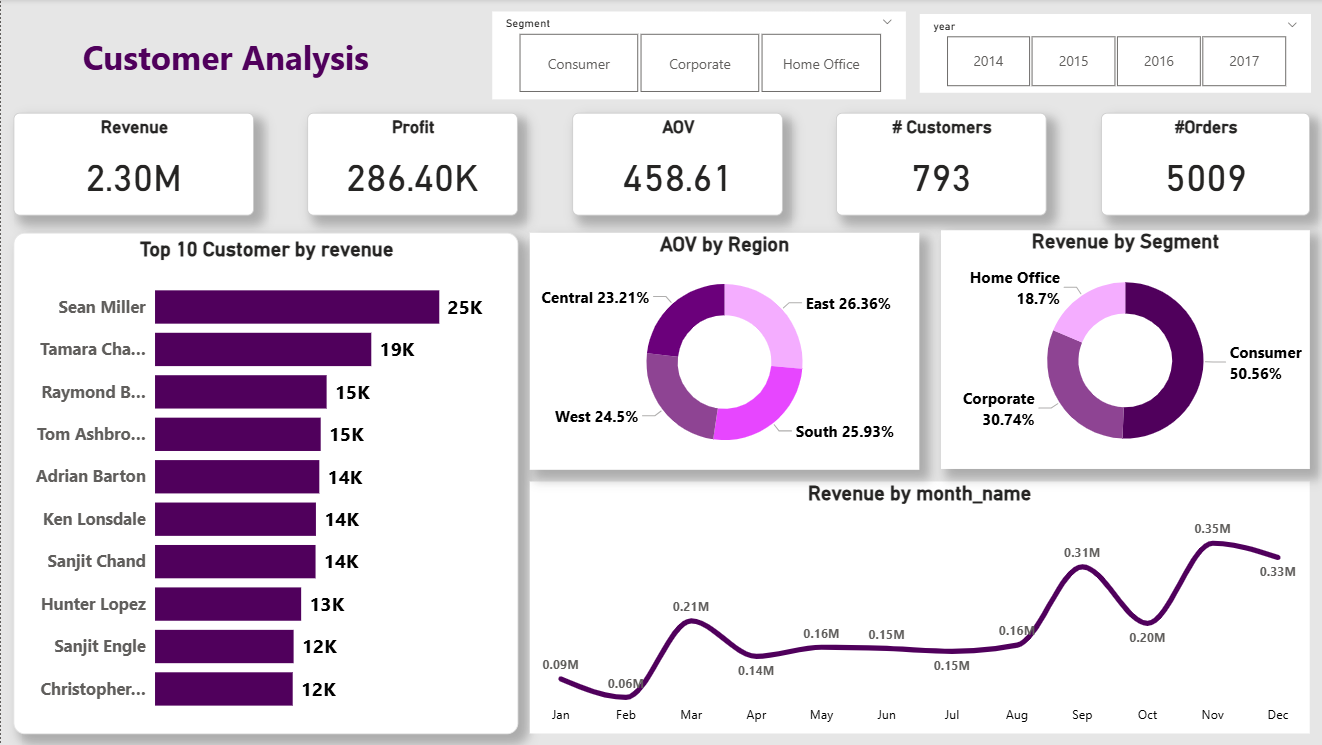

This screenshot's page, from the dashboard's own definition file:
{"tool":"powerbi","page":{"name":"Customer Analysis","canvas":[1280,720],"ordinal":2},"visuals":[{"type":"card","title":"Revenue","fields":{"Values":["Calculations2.Revenue2"]},"box":[11.5,109.2,231.8,99.4],"z":0},{"type":"card","title":"Profit","fields":{"Values":["Calculations2.profit2"]},"box":[295.5,109.4,203,99.4],"z":1000},{"type":"card","title":"AOV","fields":{"Values":["Calculations2.Aov"]},"box":[550.8,109.2,203.3,99.1],"z":2000},{"type":"card","title":"# Customers","fields":{"Values":["Calculations2.#customer"]},"box":[806.2,109.2,203.3,99.1],"z":3000},{"type":"card","title":"#Orders","fields":{"Values":["Calculations2.#order2"]},"box":[1061.6,109.2,201.6,99.1],"z":4000},{"type":"clusteredBarChart","title":"Top 10 Customer by revenue","fields":{"Category":["dcustomer.Customer Name"],"Y":["Calculations2.Revenue2"]},"box":[11.8,225.1,487.1,483.8],"z":5000},{"type":"lineChart","title":"Revenue by month_name","fields":{"Category":["calender_date.month_name"],"Y":["Calculations2.Revenue2"]},"box":[510.7,465.3,752.5,243.6],"z":6000},{"type":"donutChart","title":"AOV by Region","fields":{"Y":["Calculations2.Aov"],"Category":["dlocations.Region"]},"box":[510.7,225.1,376.3,228.5],"z":7000},{"type":"donutChart","title":"Revenue by Segment","fields":{"Category":["dcustomer.Segment"],"Y":["Calculations.Revenue"]},"box":[907.1,223.4,356.1,230.1],"z":8000},{"type":"actionButton","box":[25.9,14.4,383,80.6],"z":9000},{"type":"slicer","fields":{"Values":["calender_date.year"]},"box":[887,14.4,377.3,76.3],"z":10000},{"type":"slicer","fields":{"Values":["dcustomer.Segment"]},"box":[473.8,11.5,398.9,85],"z":11000}]}

Visuals, with their boxes in screenshot pixels (x1, y1, x2, y2), scaled from the page's 1280x720 canvas onto the 1322x745 screenshot:
"Revenue" card: detection(12, 113, 251, 216)
"Profit" card: detection(305, 113, 515, 216)
"AOV" card: detection(569, 113, 779, 216)
"# Customers" card: detection(833, 113, 1043, 216)
"#Orders" card: detection(1096, 113, 1305, 216)
"Top 10 Customer by revenue" clusteredBarChart: detection(12, 233, 515, 734)
"Revenue by month_name" lineChart: detection(527, 481, 1305, 734)
"AOV by Region" donutChart: detection(527, 233, 916, 469)
"Revenue by Segment" donutChart: detection(937, 231, 1305, 469)
actionButton: detection(27, 15, 422, 98)
slicer - calender_date.year: detection(916, 15, 1306, 94)
slicer - dcustomer.Segment: detection(489, 12, 901, 100)
